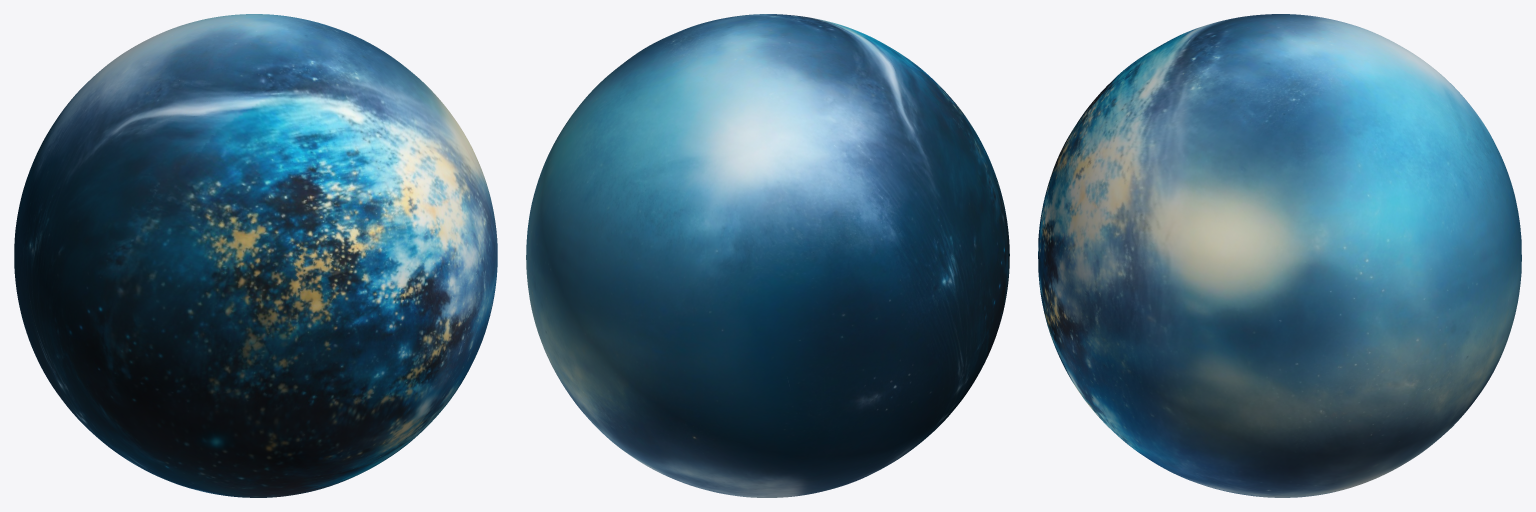
File: Celestial_Enigma_0918053509.glb
The picture shows the model from 3 angles, left to right: view 1: azimuth 30°, elevation 25°; view 2: azimuth 150°, elevation 25°; view 3: azimuth 270°, elevation 25°; orthographic projection.
Size of the model in its own units: 2 by 2 by 2.
Materials: 1 (1 with a texture image).
